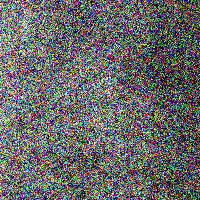crazing: (26, 134, 199, 181), (84, 82, 199, 129)
